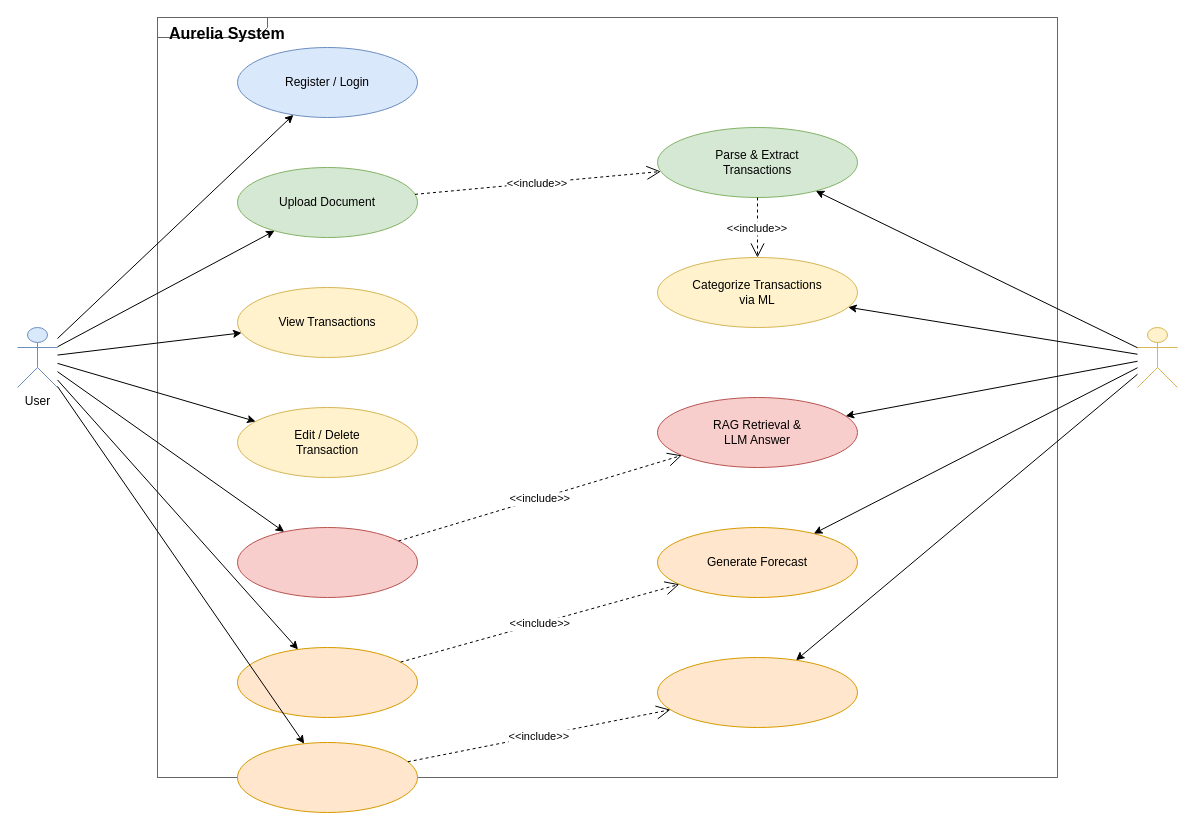
This 1202x830 diagram has some shape labels left out. Each missing label, with the centre of its shape:
AI Service: (1157,357)
Chat with Finances: (327,562)
Detect Anomalies: (757,692)
View Anomaly Alerts: (327,777)
View Spending Forecasts: (327,682)
